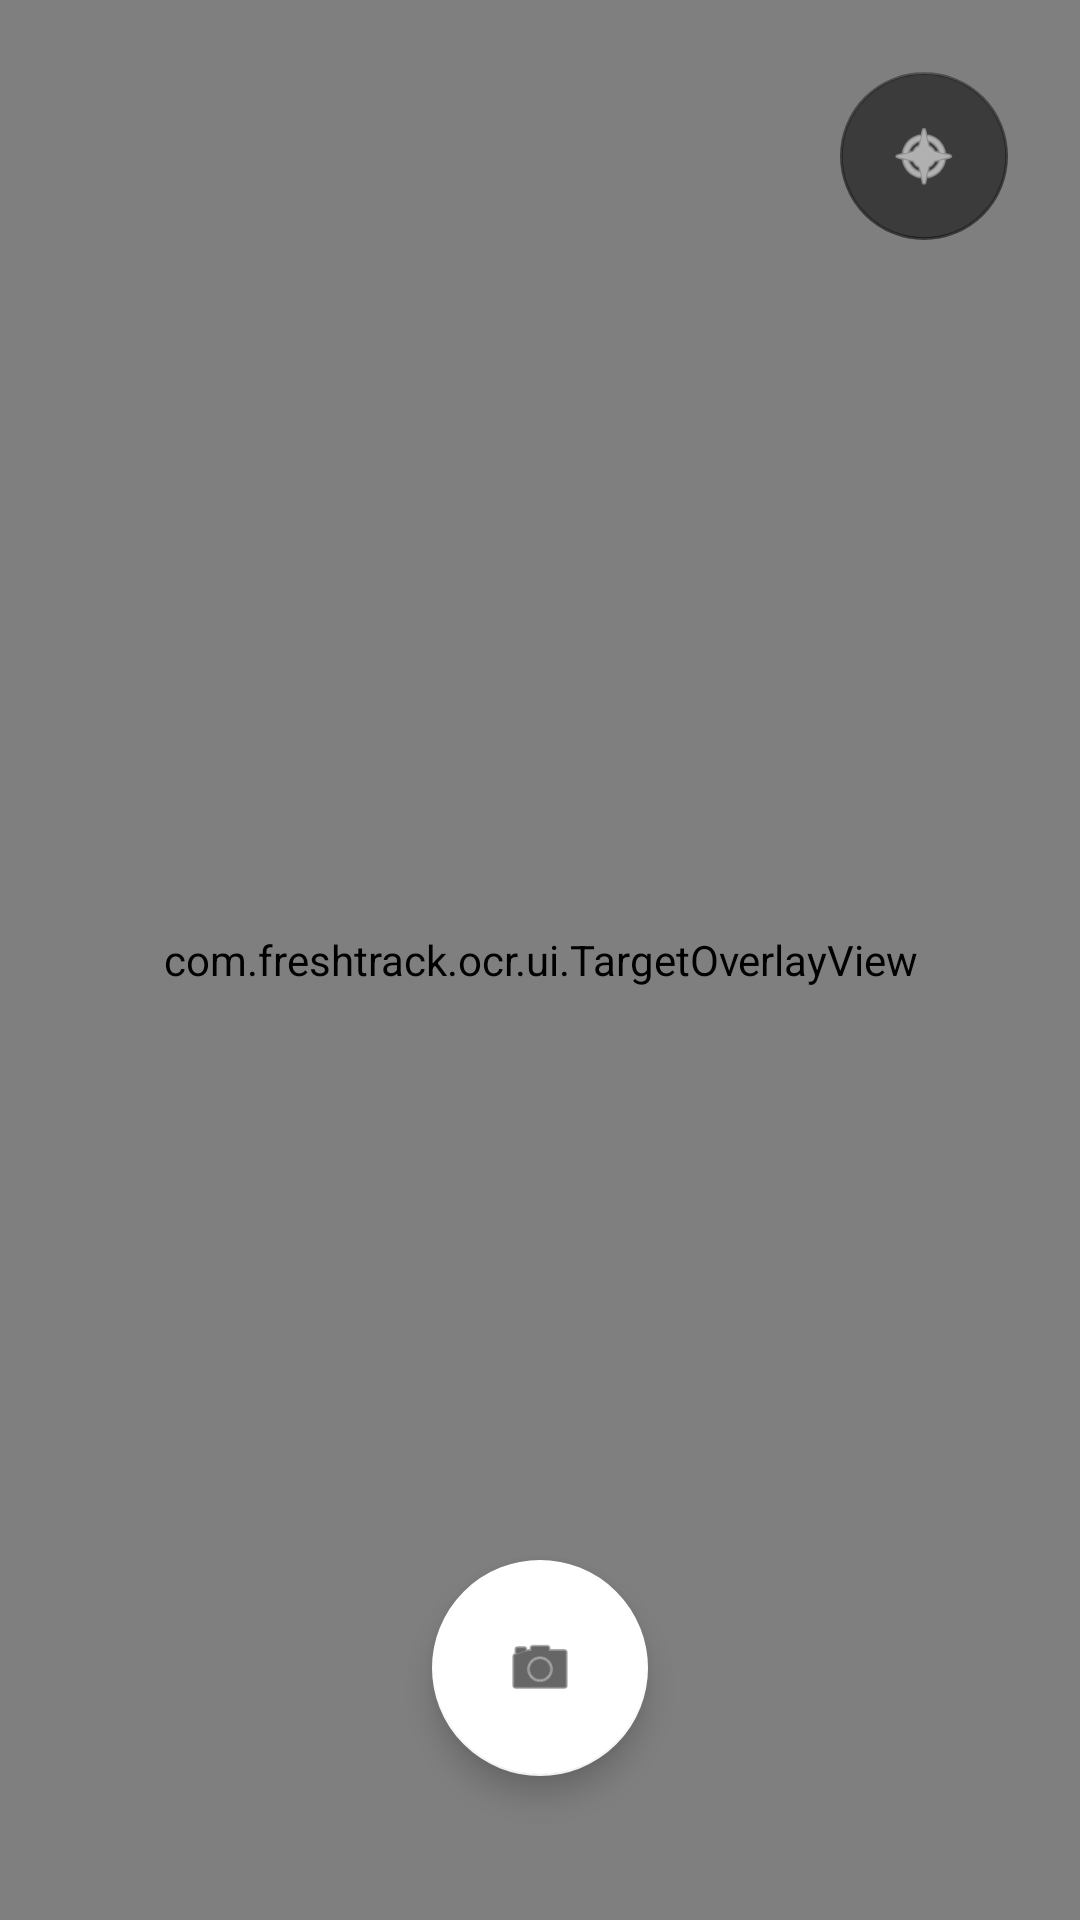

Point at icon controls on the screen. Image size 1080px x 1920px, points as (x,y).
Scan: (540,1668)
